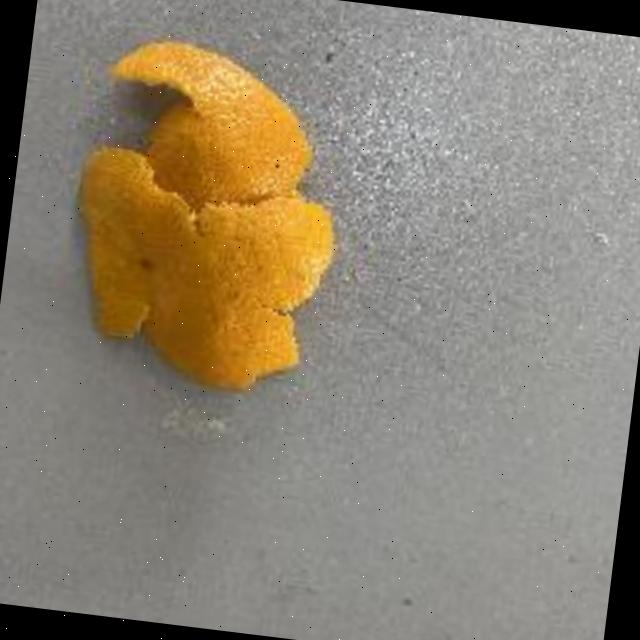orange-peel: (52, 26, 362, 403)
